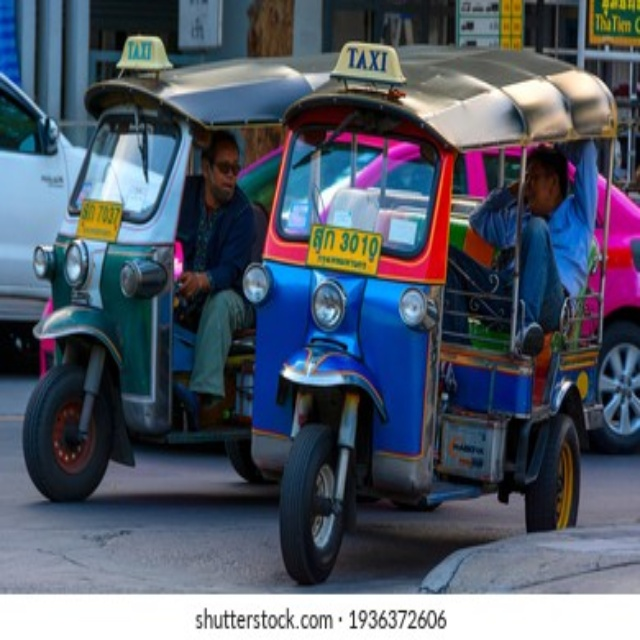Motorcycle: (240, 41, 617, 583), (23, 34, 300, 507)
